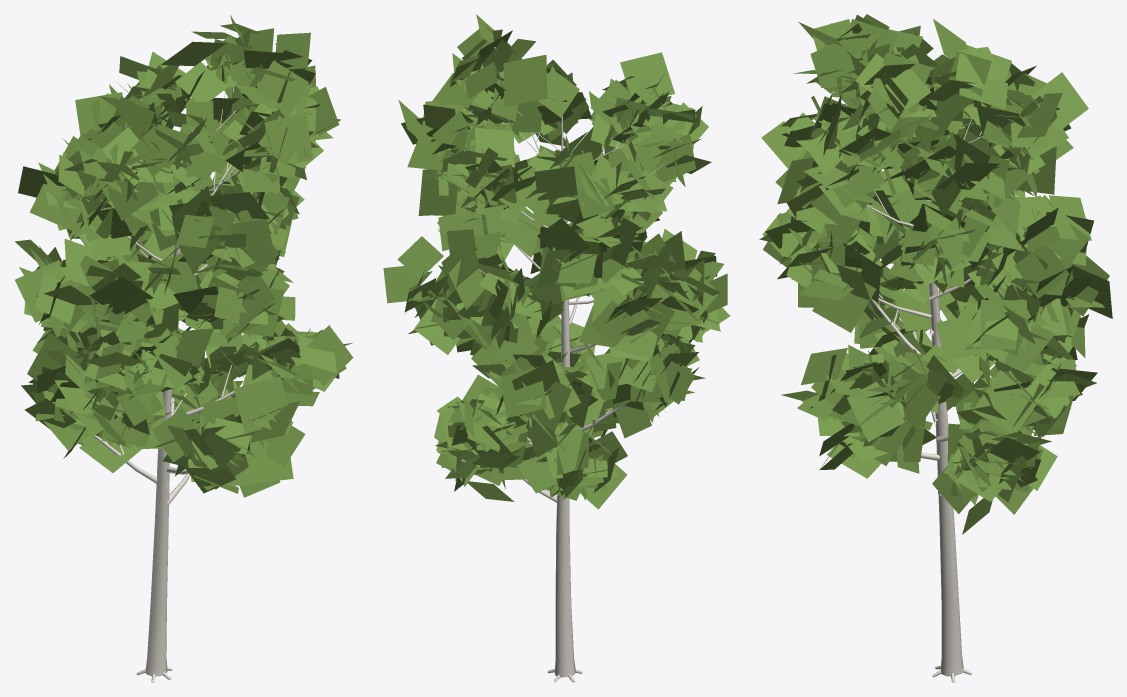
File: birch-2-lod0.glb
3 views of the same model, side by side, from view 1: azimuth 30°, elevation 25°; view 2: azimuth 150°, elevation 25°; view 3: azimuth 270°, elevation 25° (orthographic). The views are drawn at different scales.
Parts seen in each view (by area): view 1: birch-2-lod0-foliage, birch-2-lod0-bark; view 2: birch-2-lod0-foliage, birch-2-lod0-bark; view 3: birch-2-lod0-foliage, birch-2-lod0-bark.
Part boxes in pixels (left/top/right/bottom): birch-2-lod0-foliage: left=15, top=15, right=353, bottom=497; birch-2-lod0-bark: left=58, top=62, right=293, bottom=682; birch-2-lod0-foliage: left=383, top=14, right=729, bottom=509; birch-2-lod0-bark: left=420, top=111, right=664, bottom=682; birch-2-lod0-foliage: left=759, top=14, right=1112, bottom=534; birch-2-lod0-bark: left=866, top=118, right=1061, bottom=682.
Bounding box in the file's own units: 14.12 × 27.84 × 13.25.
